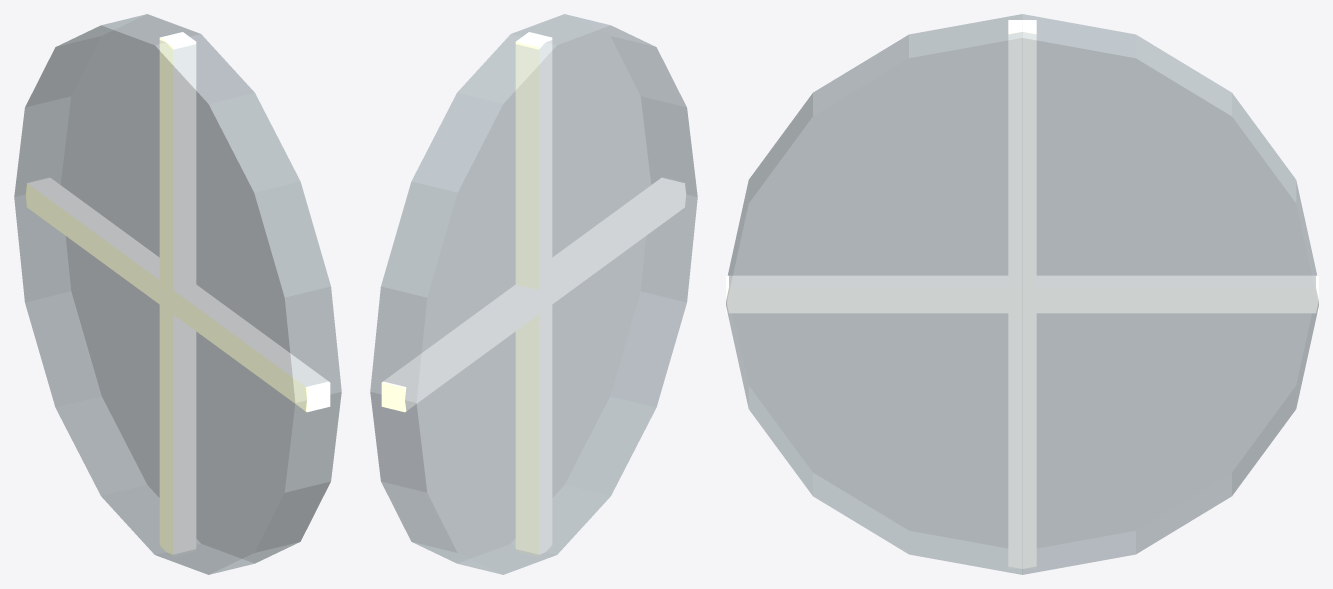
Rendered from HamsterTrainingProp.glb.
The picture shows the model from 3 angles, left to right: view 1: azimuth 30°, elevation 25°; view 2: azimuth 150°, elevation 25°; view 3: azimuth 270°, elevation 25°; orthographic projection. The views are drawn at different scales.
Parts seen in each view (by area): view 1: HamsterTrainingProp_0, HamsterTrainingProp_1; view 2: HamsterTrainingProp_0, HamsterTrainingProp_1; view 3: HamsterTrainingProp_0, HamsterTrainingProp_1.
Boxes of the visible parts, x1,y1,x2,y2 form: HamsterTrainingProp_0: [14, 14, 341, 574]; HamsterTrainingProp_1: [25, 32, 330, 556]; HamsterTrainingProp_0: [370, 14, 697, 574]; HamsterTrainingProp_1: [381, 32, 686, 556]; HamsterTrainingProp_0: [726, 14, 1318, 574]; HamsterTrainingProp_1: [726, 20, 1318, 568].
Bounding box in the file's own units: 0.4 × 4.2 × 4.2.
